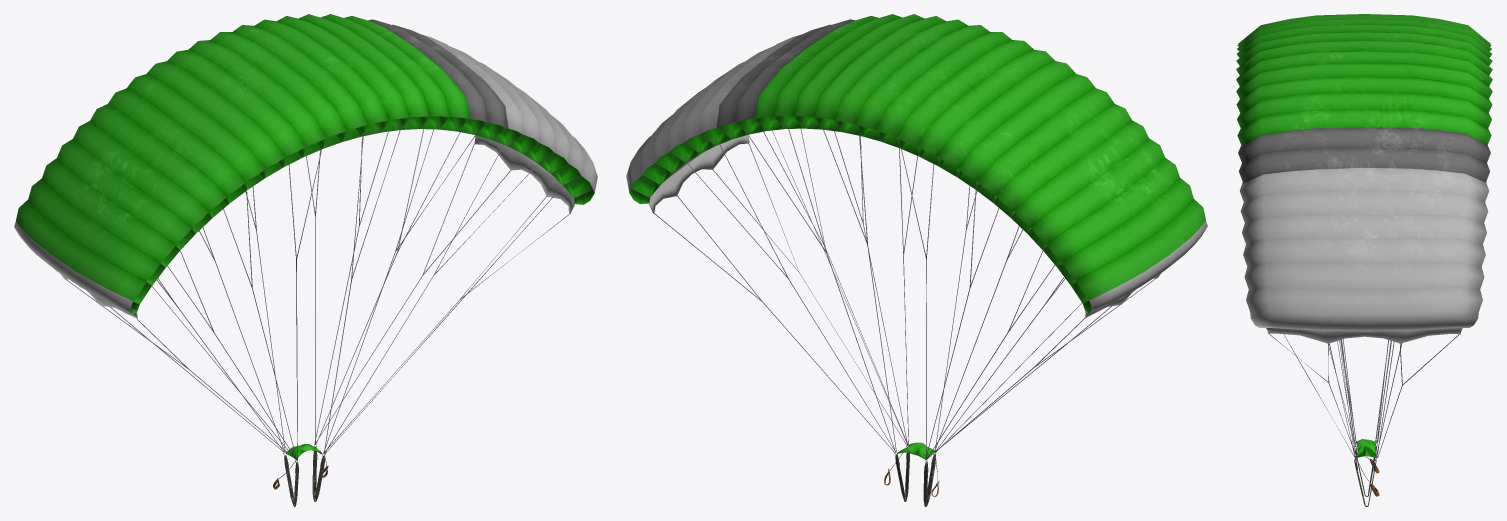
Rendered from pubg_green_parachute.glb.
The picture shows the model from 3 angles, left to right: view 1: azimuth 30°, elevation 25°; view 2: azimuth 150°, elevation 25°; view 3: azimuth 270°, elevation 25°; orthographic projection.
Visible parts, largest first — view 1: Parachute_skinned.mo; view 2: Parachute_skinned.mo; view 3: Parachute_skinned.mo.
Boxes of the visible parts, x1=… form: Parachute_skinned.mo: x1=14, y1=14, x2=597, y2=506; Parachute_skinned.mo: x1=626, y1=14, x2=1207, y2=506; Parachute_skinned.mo: x1=1236, y1=14, x2=1492, y2=506.
Bounding box in the file's own units: 27.26 × 23.24 × 11.91.
1 material, 1 textured.
